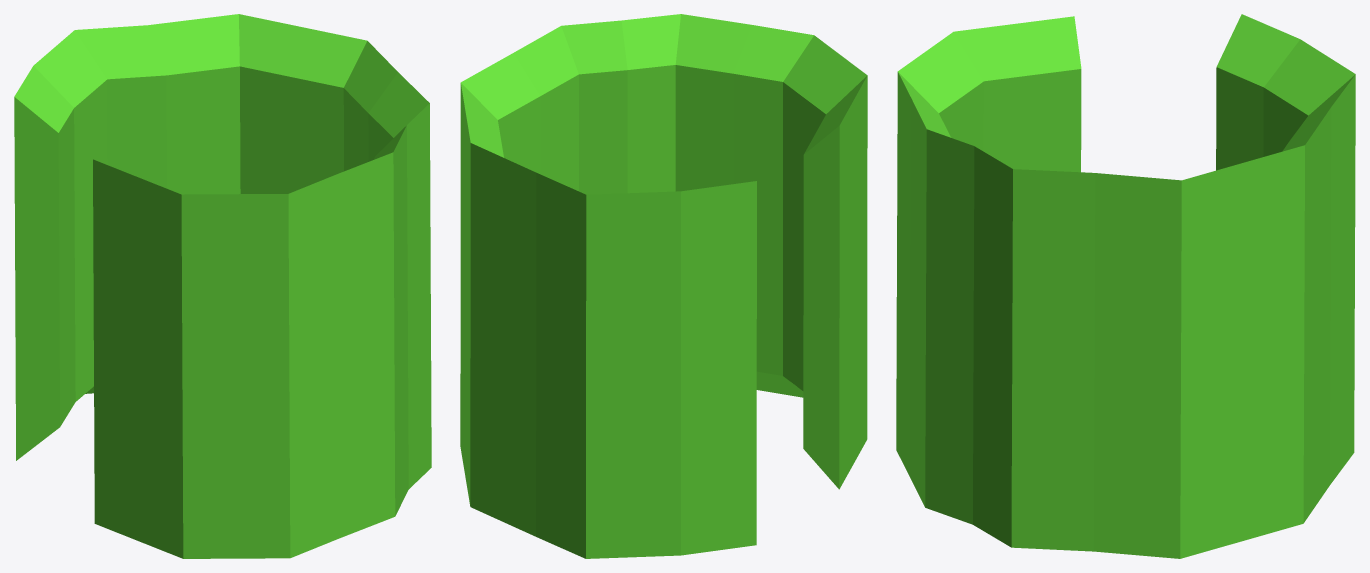
The model's file is InvWall6.fbx.
3 renders of one model, left to right at view 1: azimuth 30°, elevation 25°; view 2: azimuth 150°, elevation 25°; view 3: azimuth 270°, elevation 25°, orthographic. The views are drawn at different scales.
Visible parts, largest first — view 1: Island 6.001; view 2: Island 6.001; view 3: Island 6.001.
Boxes of the visible parts, <box> form: Island 6.001: <box>14,14,431,558</box>; Island 6.001: <box>460,14,867,558</box>; Island 6.001: <box>896,14,1355,558</box>.
Size of the model in its own units: 1166 by 1255 by 1365.
